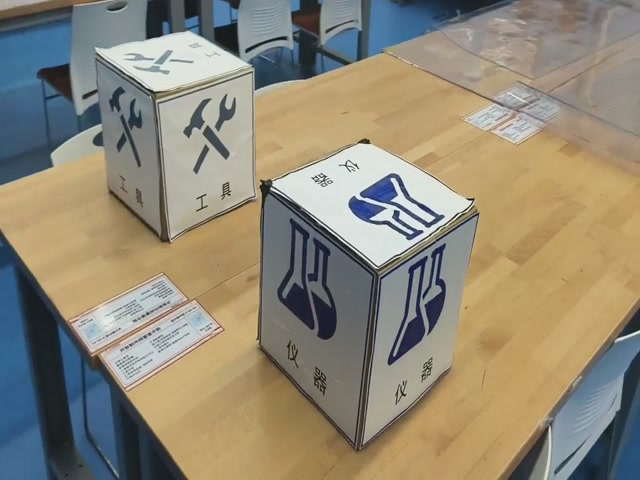Cube_ins: (261, 141, 477, 275)
Cube_tool: (96, 31, 250, 101)
